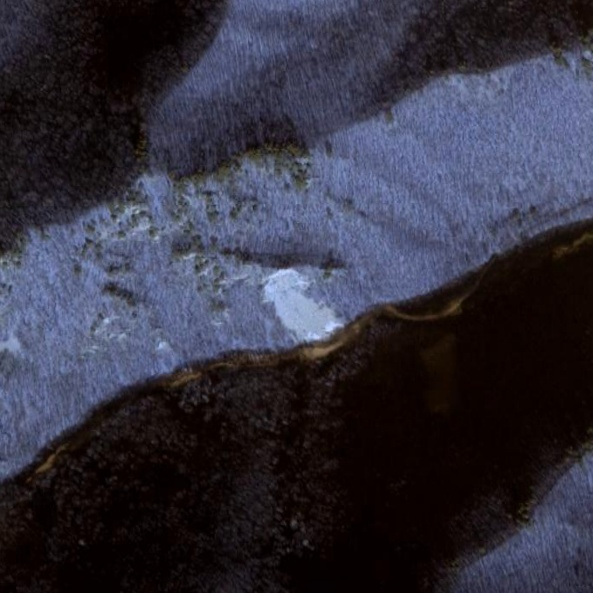slope: (262, 266, 360, 361)
